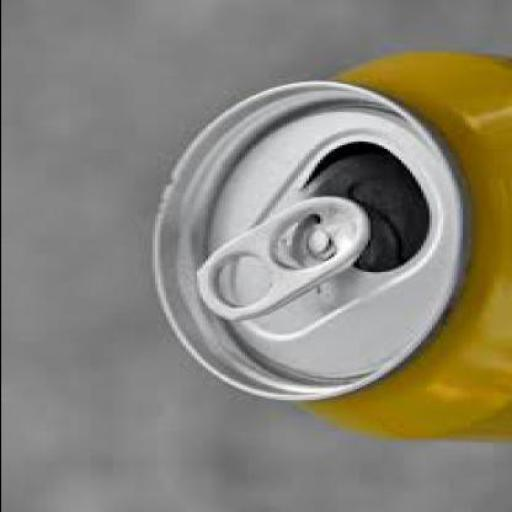metal: (148, 48, 509, 439)
